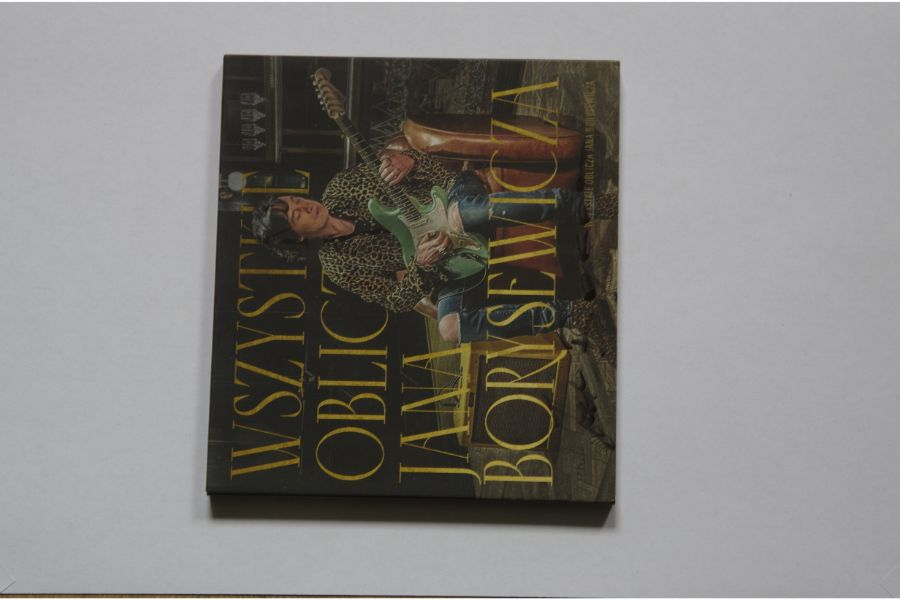album: (205, 52, 617, 507)
